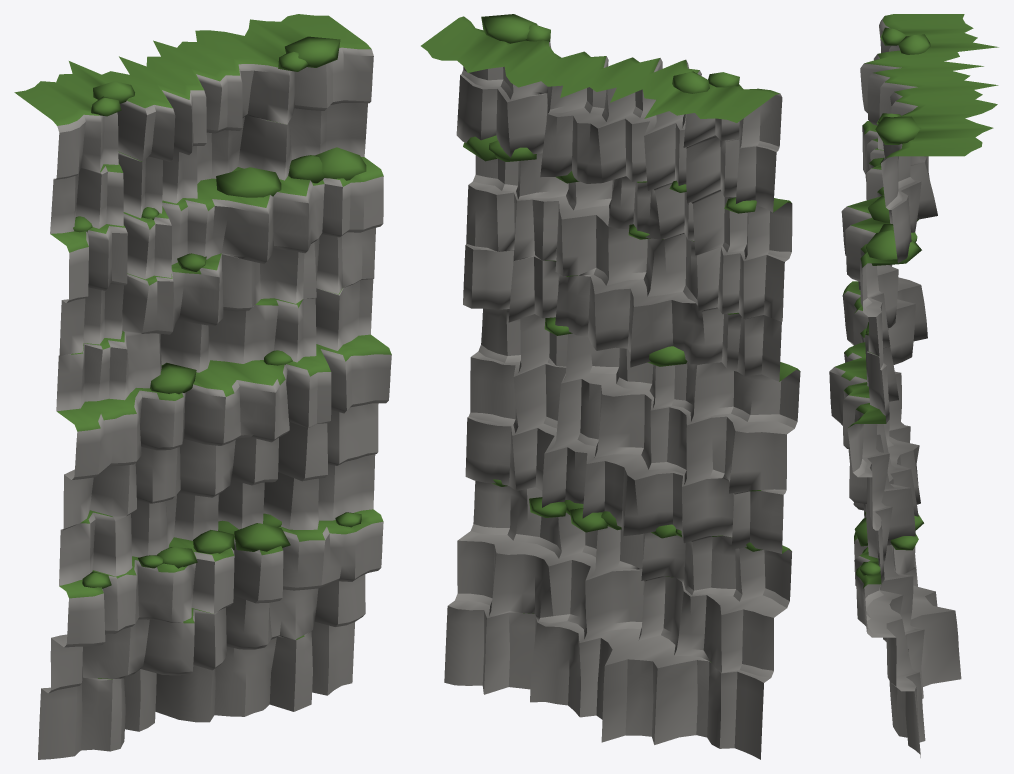
The model's file is cliff_straight_75.glb.
The picture shows the model from 3 angles, left to right: view 1: azimuth 30°, elevation 25°; view 2: azimuth 150°, elevation 25°; view 3: azimuth 270°, elevation 25°; orthographic projection. The views are drawn at different scales.
Parts seen in each view (by area): view 1: cliff_straight_75; view 2: cliff_straight_75; view 3: cliff_straight_75.
Boxes of the visible parts, x1,y1,x2,y2 form: cliff_straight_75: [14, 14, 391, 759]; cliff_straight_75: [421, 14, 800, 759]; cliff_straight_75: [829, 14, 998, 757].
Size of the model in its own units: 40 by 80.6 by 20.2.
